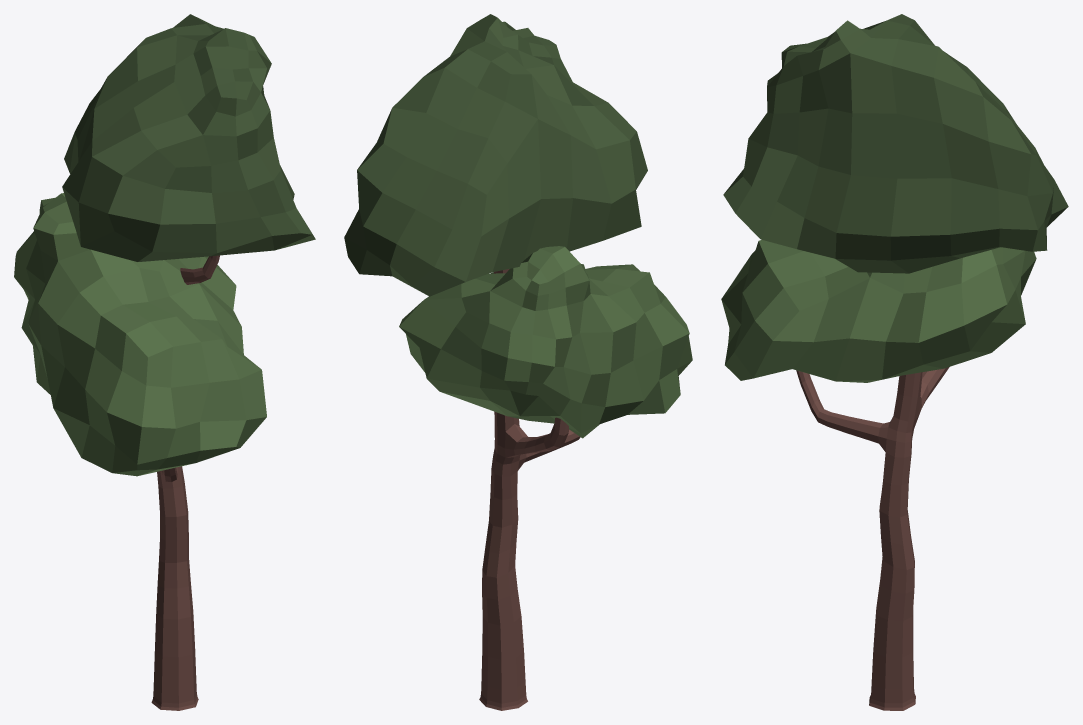
The model's file is q_tree_common_3.gltf.
3 views of the same model, side by side, from view 1: azimuth 30°, elevation 25°; view 2: azimuth 150°, elevation 25°; view 3: azimuth 270°, elevation 25° (orthographic). The views are drawn at different scales.
Parts seen in each view (by area): view 1: CommonTree_3; view 2: CommonTree_3; view 3: CommonTree_3.
Part boxes in pixels (x1,y1,x2,y2): CommonTree_3: (14,14,315,710); CommonTree_3: (344,14,692,710); CommonTree_3: (721,14,1068,710).
Bounding box in the file's own units: 3.19 × 8.64 × 3.9.
